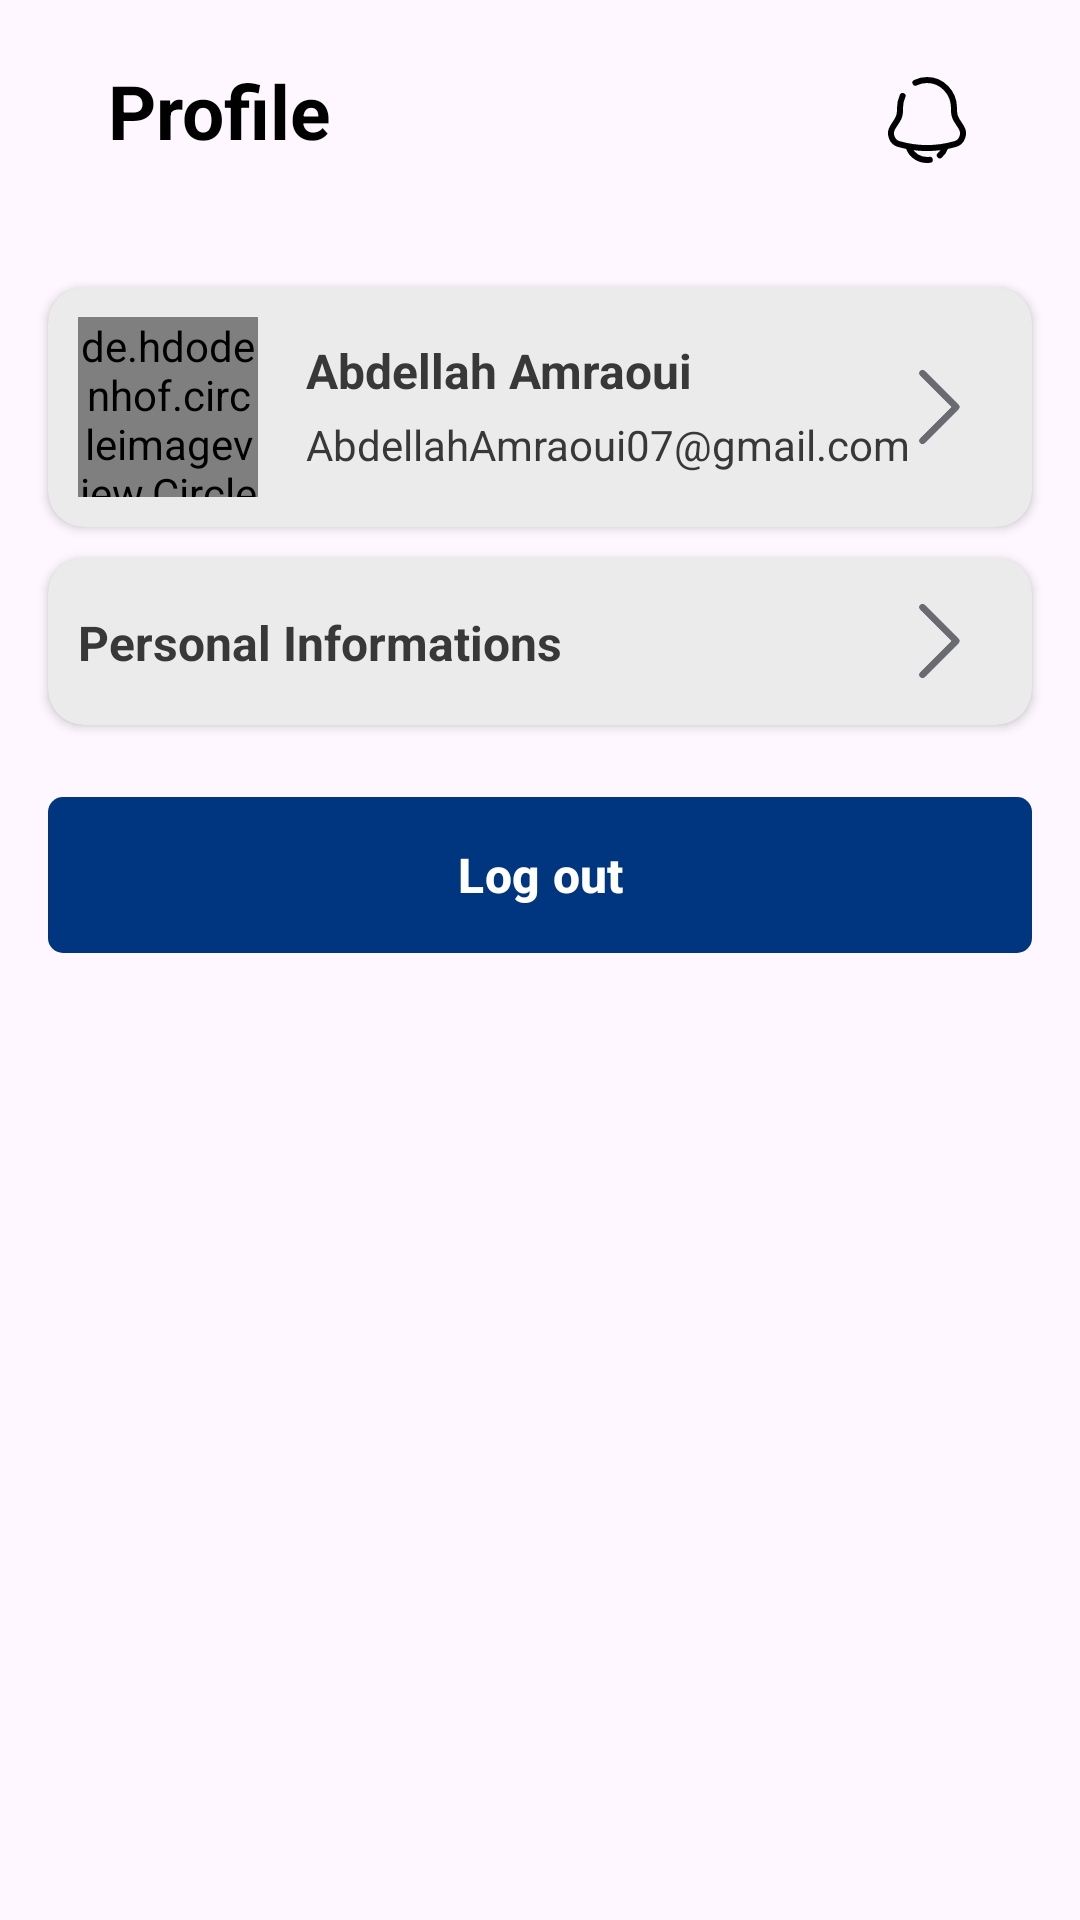

Named icons in this screenshot (1080×1920) and their centers, (x=x, y=y):
bell: (x=927, y=120)
rightway: (x=939, y=407), (x=939, y=641)
